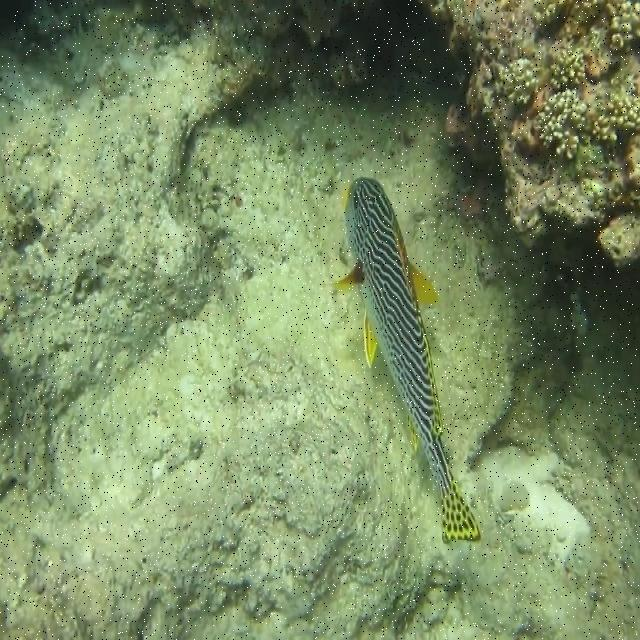fish: (335, 176, 482, 545)
reefs: (426, 1, 639, 267)
